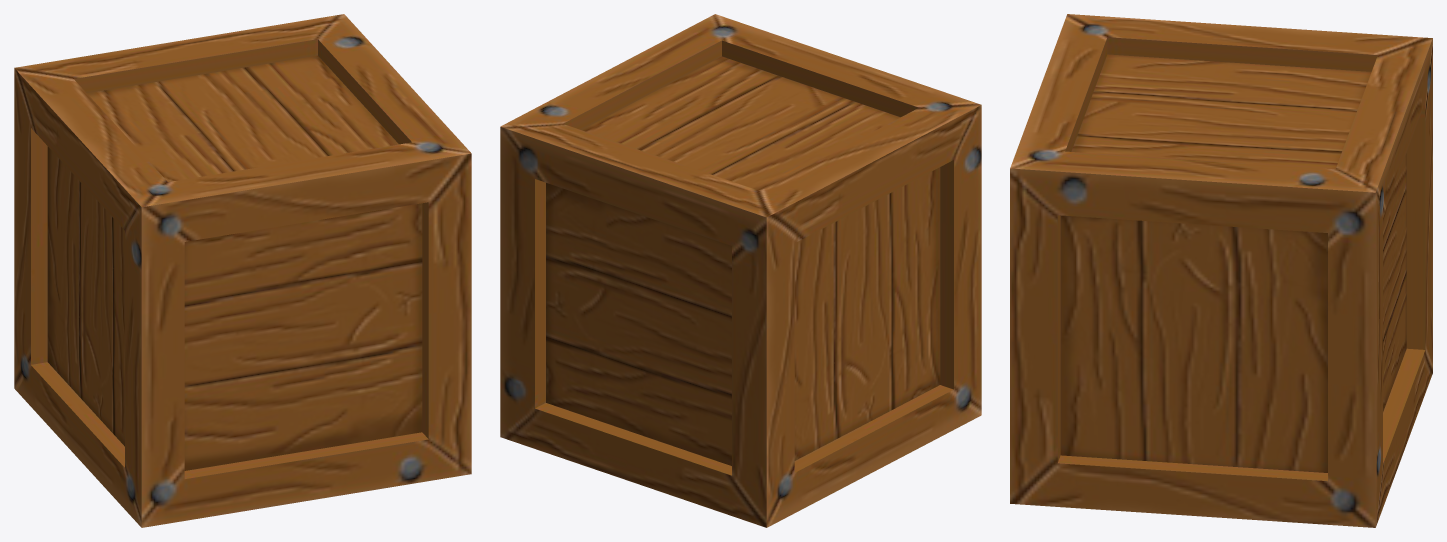
The model's file is Box_Rabbit.fbx.
The picture shows the model from 3 angles, left to right: view 1: azimuth 30°, elevation 25°; view 2: azimuth 150°, elevation 25°; view 3: azimuth 270°, elevation 25°; orthographic projection. The views are drawn at different scales.
Visible parts, largest first — view 1: polySurface188; view 2: polySurface188; view 3: polySurface188.
Part boxes in pixels (x1=…): polySurface188: x1=14, y1=14, x2=471, y2=527; polySurface188: x1=500, y1=14, x2=981, y2=527; polySurface188: x1=1010, y1=14, x2=1432, y2=527.
Bounding box in the file's own units: 8.25 × 7.22 × 8.25.
